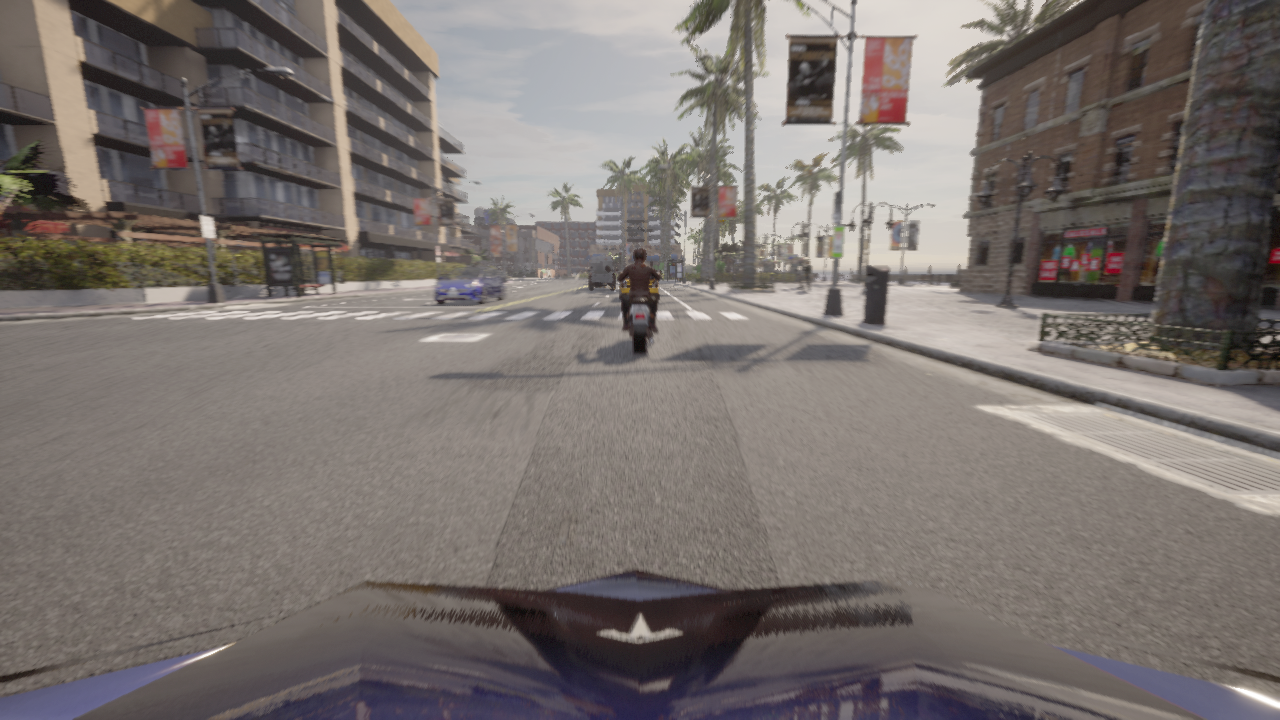cyclist: (0, 569, 1279, 719), (617, 269, 662, 353), (433, 266, 505, 304), (620, 275, 658, 299), (587, 256, 614, 288), (498, 270, 508, 273), (770, 278, 773, 281), (732, 277, 734, 281)
pedestrian: (803, 260, 812, 291)
